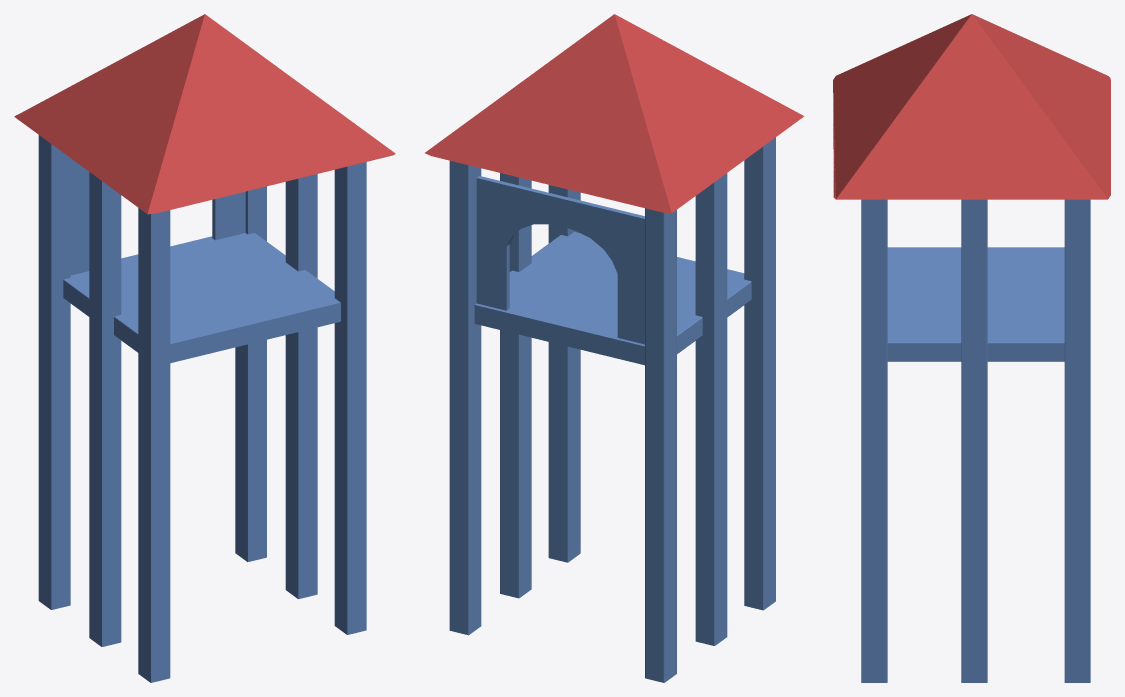
File: Slide.fbx
The picture shows the model from 3 angles, left to right: view 1: azimuth 30°, elevation 25°; view 2: azimuth 150°, elevation 25°; view 3: azimuth 270°, elevation 25°; orthographic projection. The views are drawn at different scales.
Visible parts, largest first — view 1: Slide; view 2: Slide; view 3: Slide.
Part boxes in pixels (<box>): Slide: <box>14,14,395,682</box>; Slide: <box>425,14,804,682</box>; Slide: <box>833,14,1110,682</box>.
Size of the model in its own units: 403 by 935 by 383.
